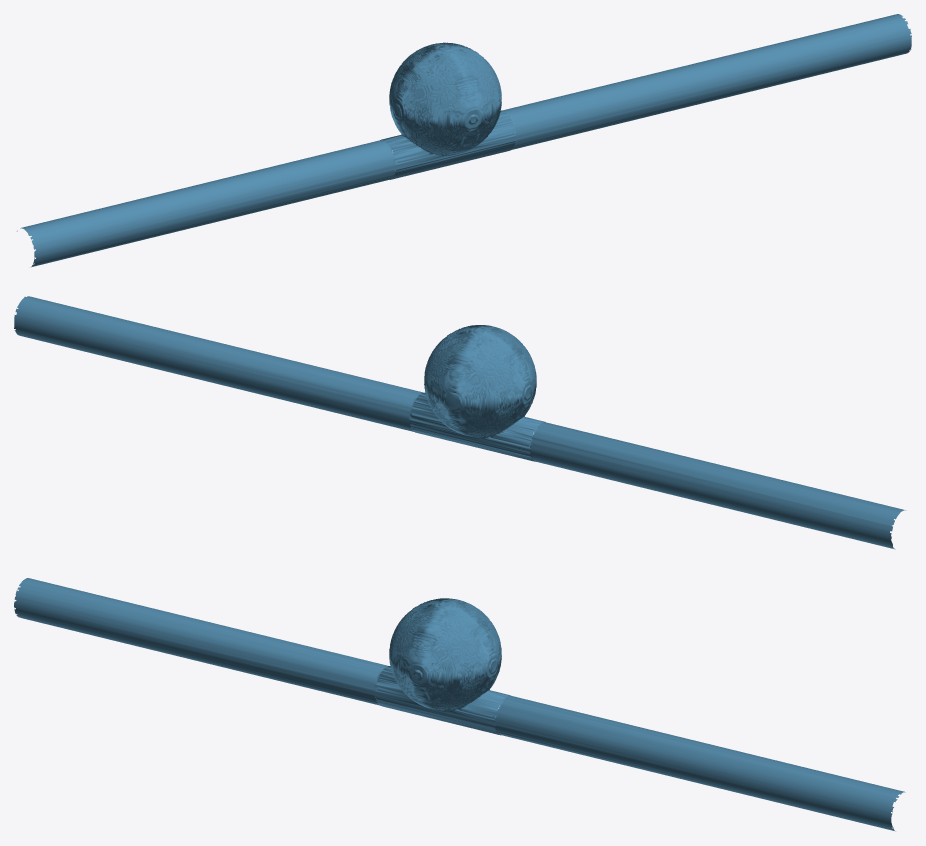
The model's file is PT-2026-0102-osi.glb.
The picture shows the model from 3 angles, top to bottom: view 1: azimuth 30°, elevation 25°; view 2: azimuth 150°, elevation 25°; view 3: azimuth 330°, elevation 25°; orthographic projection.
Parts seen in each view (by area): view 1: geometry_0; view 2: geometry_0; view 3: geometry_0.
Part boxes in pixels (bbox=[...]): geometry_0: bbox=[17, 14, 911, 267]; geometry_0: bbox=[14, 296, 906, 549]; geometry_0: bbox=[14, 578, 905, 831].
Size of the model in its own units: 1.92 by 0.2408 by 0.2122.
